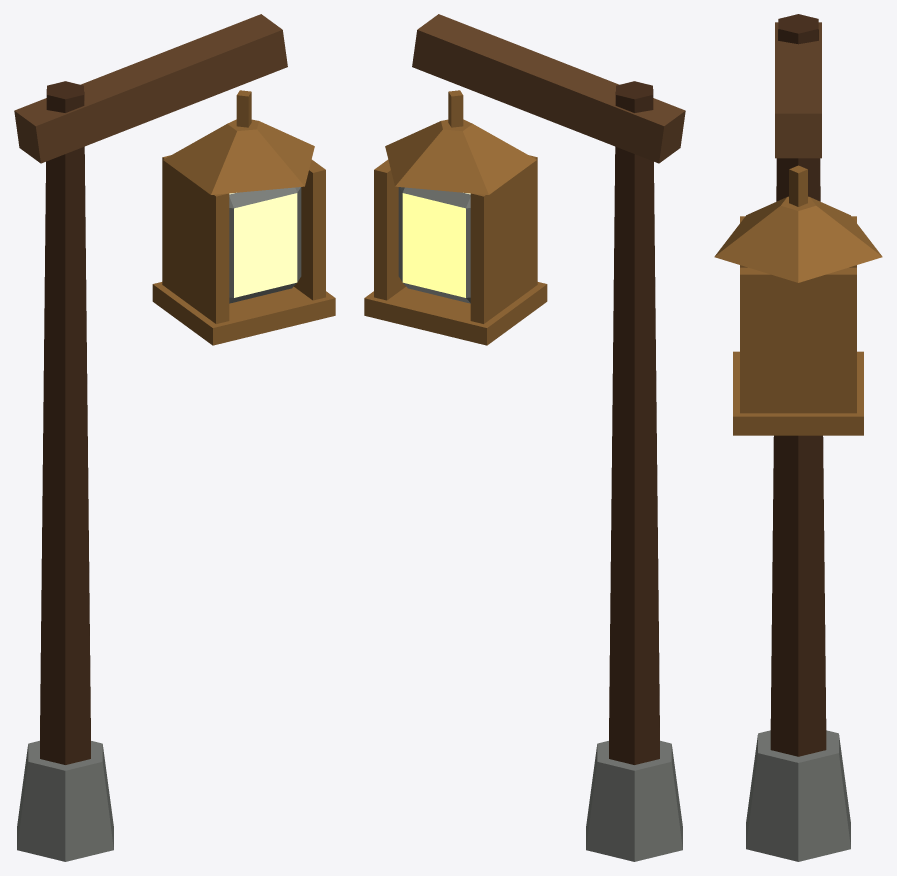
The model's file is lantern_post.glb.
The picture shows the model from 3 angles, left to right: view 1: azimuth 30°, elevation 25°; view 2: azimuth 150°, elevation 25°; view 3: azimuth 270°, elevation 25°; orthographic projection. The views are drawn at different scales.
Visible parts, largest first — view 1: lantern_post; view 2: lantern_post; view 3: lantern_post.
Part boxes in pixels (x1=…): lantern_post: x1=14, y1=14, x2=335, y2=861; lantern_post: x1=364, y1=14, x2=685, y2=861; lantern_post: x1=714, y1=14, x2=882, y2=861.
Size of the model in its own units: 0.8 by 1.97 by 0.3614.
